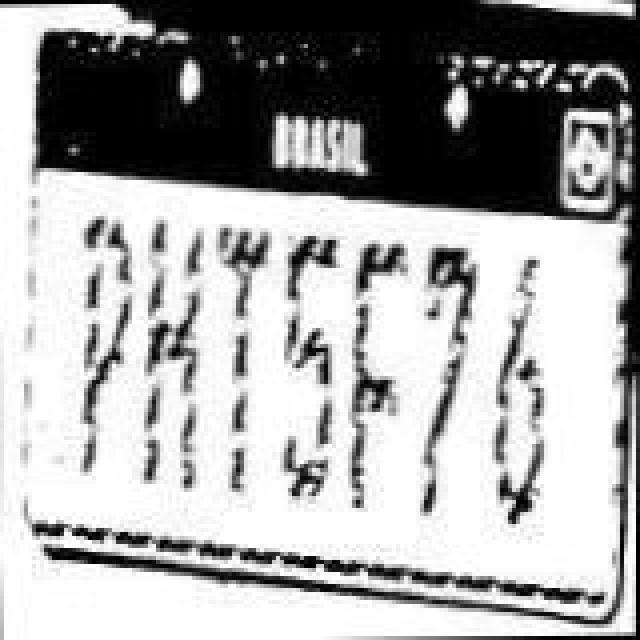5: (272, 228, 348, 508)
6: (488, 252, 568, 532)
7: (418, 240, 494, 524)
F: (346, 240, 422, 524)
H: (140, 206, 208, 494)
P: (78, 220, 142, 492)
T: (210, 218, 282, 498)
